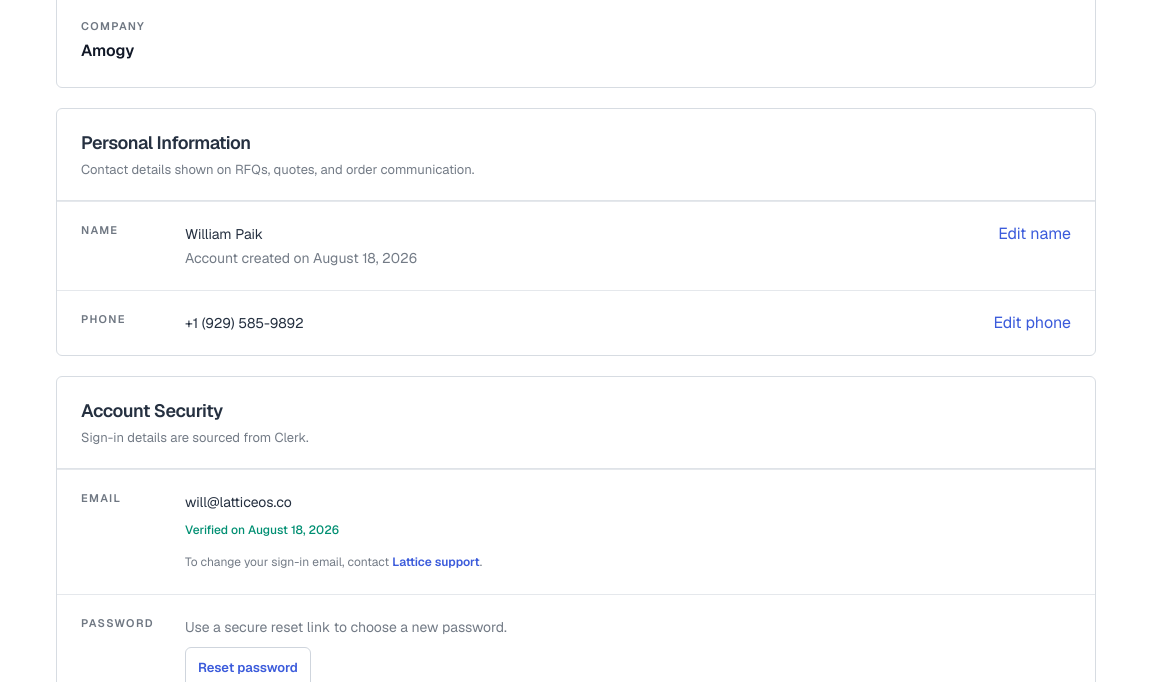
Test: AccountSettingsWorkspace › preserves edits on a failed database save and sends only the edited group
(page scrolled)
Click the button "Edit phone": [1032, 322] box x1=993 y1=310 x2=1071 y2=334
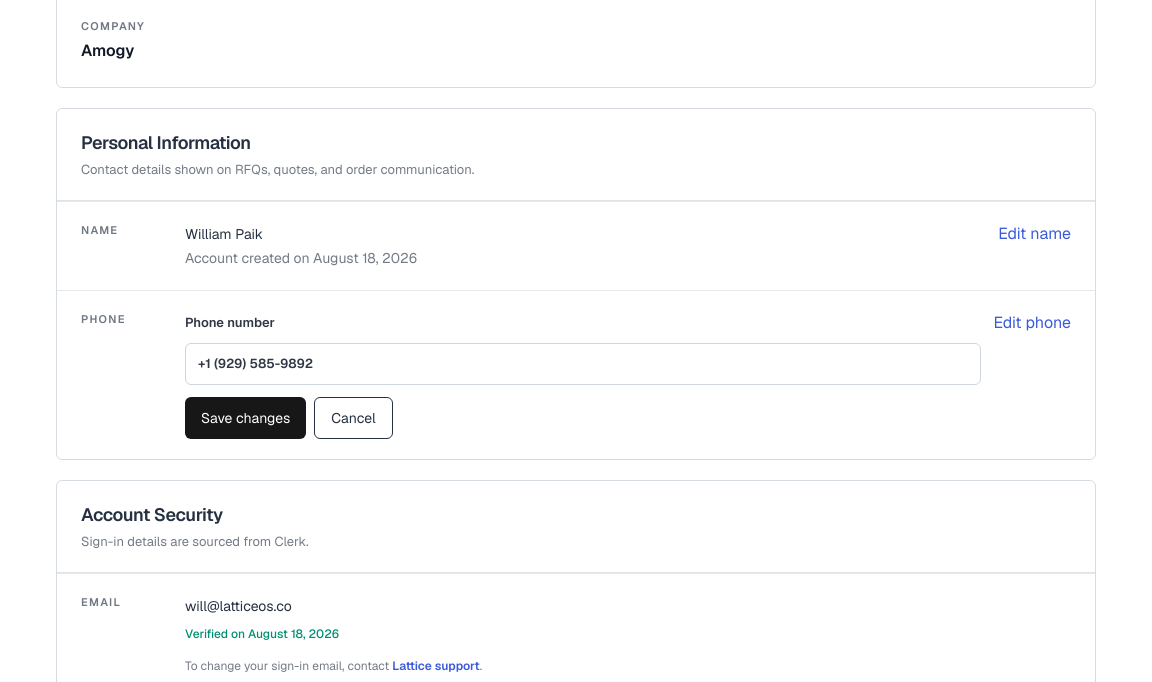
Replace the text in the field labelled "Phone number" with "(212) 555-0102": [583, 364] box x1=185 y1=342 x2=981 y2=384
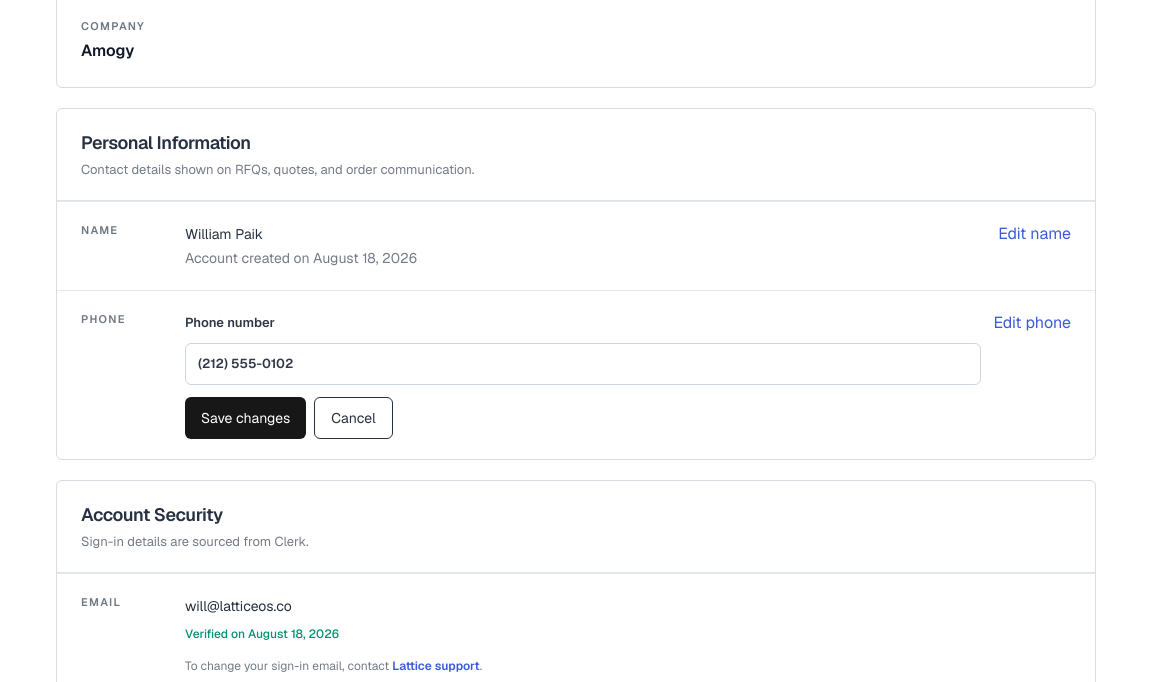
Click the button "Save changes": [246, 418] box x1=185 y1=396 x2=306 y2=438
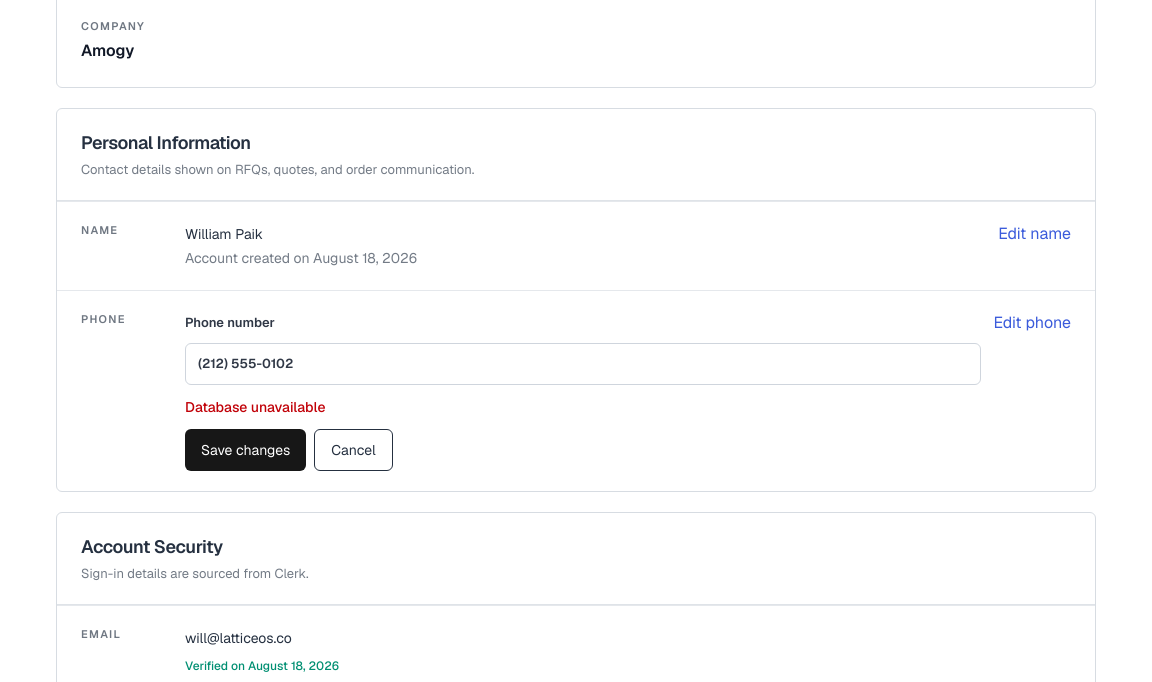
Result: the text "Database unavailable" is shown at x1=185 y1=398 x2=326 y2=416
Click the button "Save changes": [246, 450] box x1=185 y1=428 x2=306 y2=470
(page scrolled)
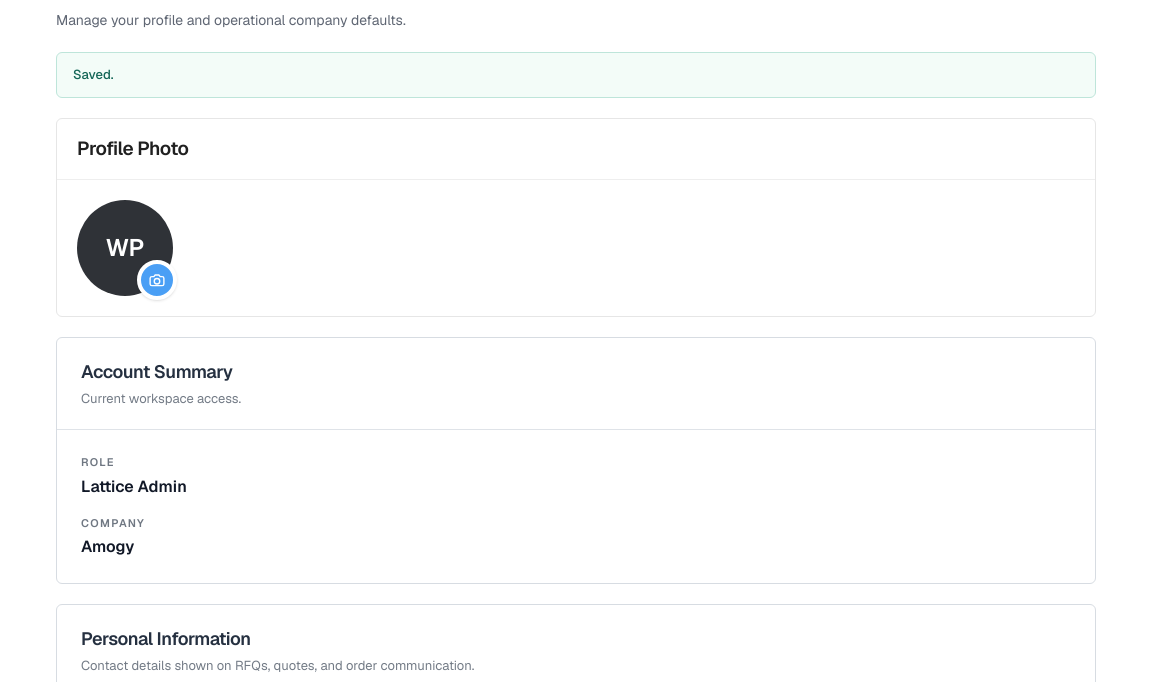
Result: the text "Saved." is shown at x1=56 y1=52 x2=1096 y2=98
